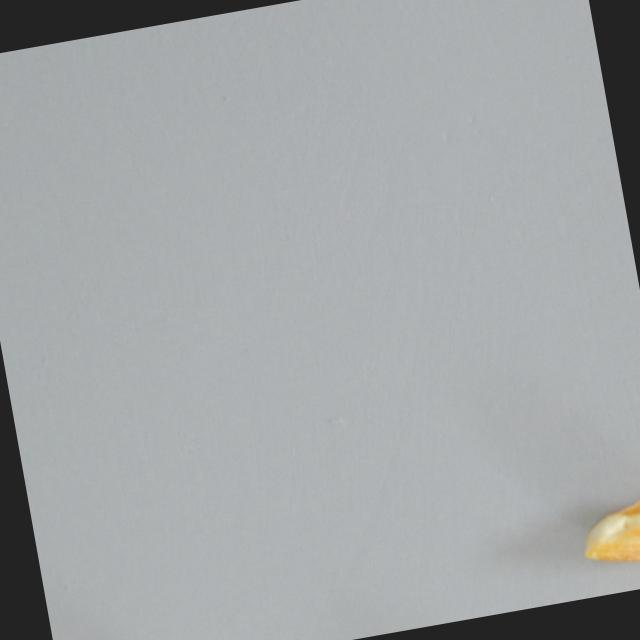pelicula: (567, 492, 640, 576)
